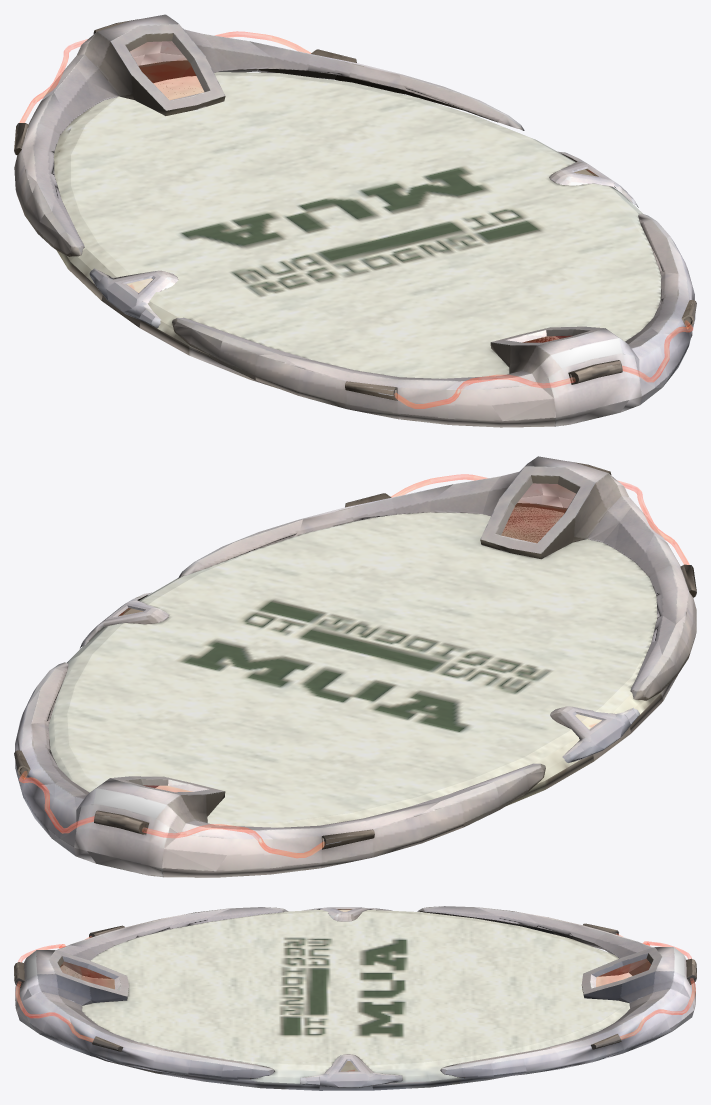
The model's file is OperationalPlatform.glb.
3 renders of one model, top to bottom at view 1: azimuth 30°, elevation 25°; view 2: azimuth 150°, elevation 25°; view 3: azimuth 270°, elevation 25°, orthographic. The views are drawn at different scales.
Visible parts, largest first — view 1: 平面.003; view 2: 平面.003; view 3: 平面.003.
Boxes of the visible parts, x1,y1,x2,y2 form: 平面.003: (14, 14, 696, 427); 平面.003: (14, 456, 696, 877); 平面.003: (14, 906, 696, 1090).
Size of what is drawn, in the model's own units: 6.37 by 0.8436 by 10.55.
Materials: 2 (2 with a texture image).
